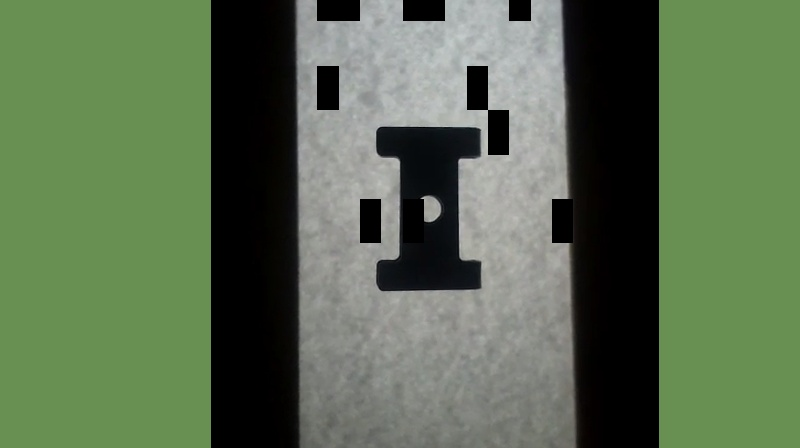O002: (372, 123, 483, 294)
